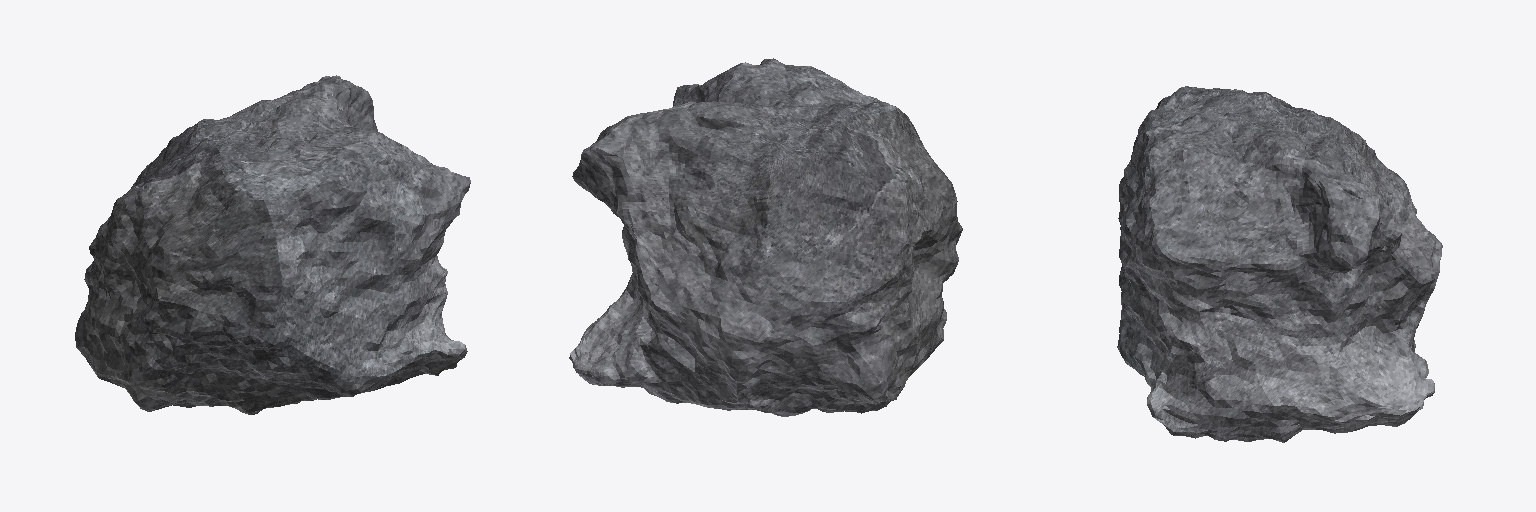
The picture shows the model from 3 angles: view 1: azimuth 30°, elevation 25°; view 2: azimuth 150°, elevation 25°; view 3: azimuth 270°, elevation 25°; orthographic projection.
Parts seen in each view (by area): view 1: ston_LP1_1_SeamsColor.001; view 2: ston_LP1_1_SeamsColor.001; view 3: ston_LP1_1_SeamsColor.001.
Part boxes in pixels (x1,y1,x2,y2): ston_LP1_1_SeamsColor.001: (75, 75, 470, 414); ston_LP1_1_SeamsColor.001: (569, 58, 962, 416); ston_LP1_1_SeamsColor.001: (1117, 86, 1442, 442).
Bounding box in the file's own units: 59.72 × 52.69 × 54.93.
Materials: 1 (1 with a texture image).